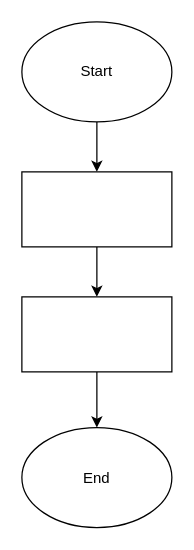
This 194x550 diagram has some shape labels left out. The shapes that lost their labels are listed below. From the top down, each one's centre as x and y in pixels, then its label:
(x=96, y=209): patientData = newContent[x] + ";" + newContent[x+1]..
(x=96, y=334): return patientData
